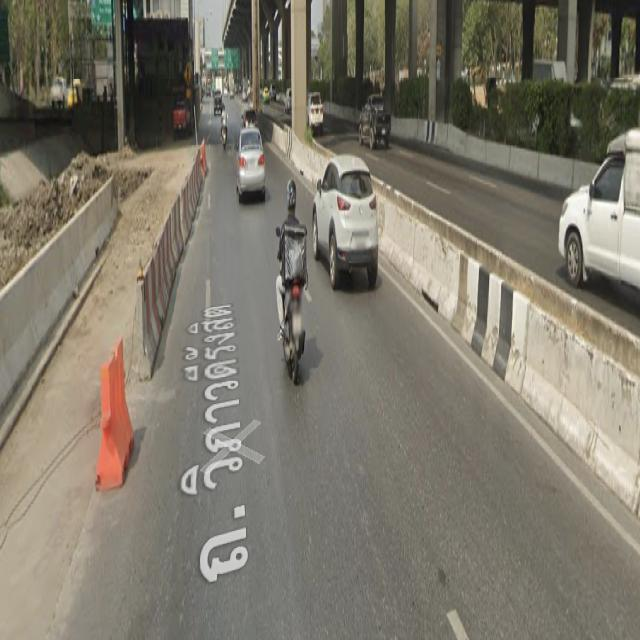fallen_object: (72, 346, 150, 486), (125, 197, 189, 357), (170, 123, 232, 235)
